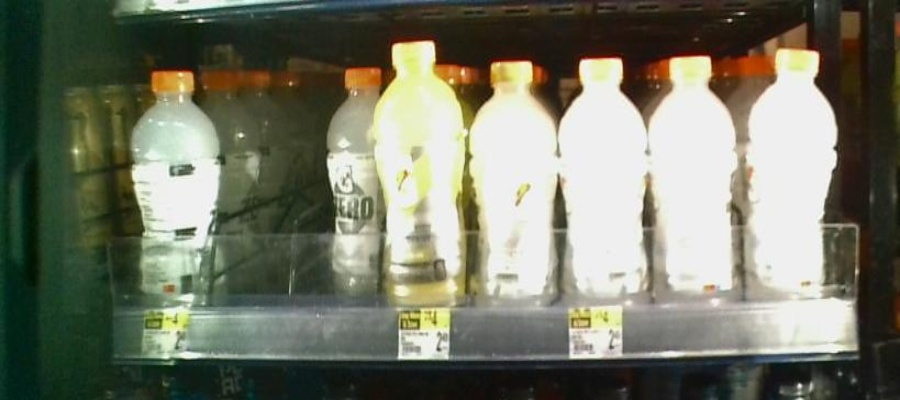bottle: (379, 40, 468, 302), (559, 55, 649, 311), (751, 46, 837, 302), (132, 66, 223, 307), (654, 43, 738, 295), (474, 53, 556, 302), (326, 63, 379, 307)
